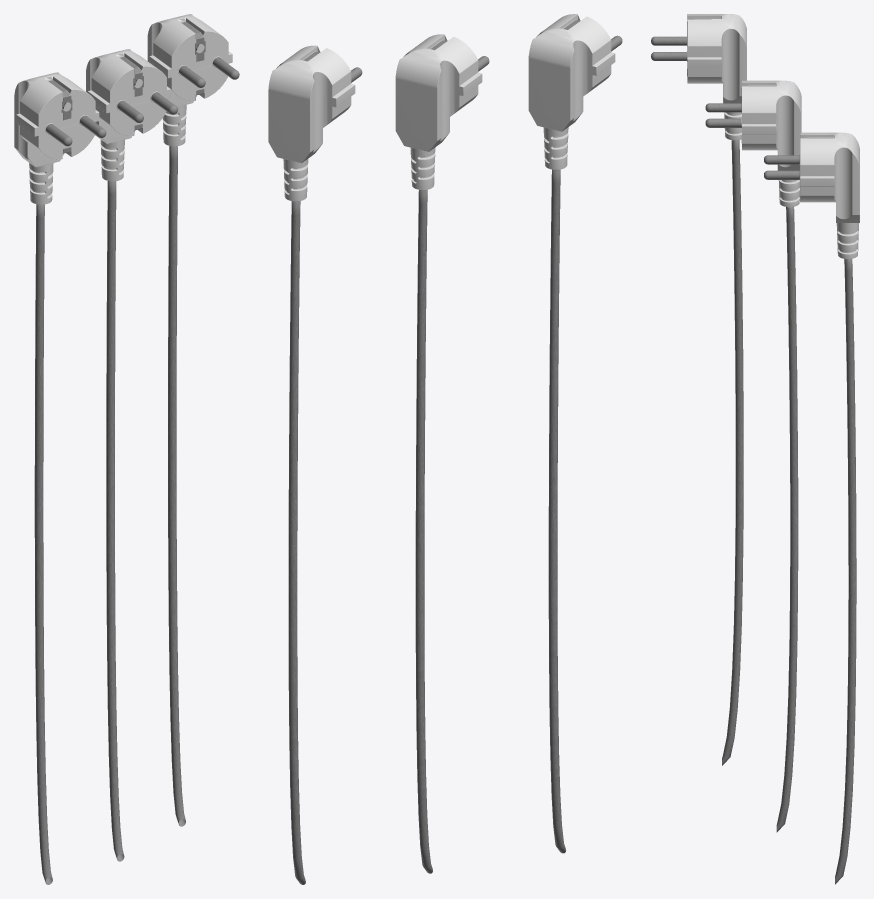
Rendered from Kabels.fbx.
3 renders of one model, left to right at view 1: azimuth 30°, elevation 25°; view 2: azimuth 150°, elevation 25°; view 3: azimuth 270°, elevation 25°, orthographic. The views are drawn at different scales.
Visible parts, largest first — view 1: 220 volt safety plug type CEE 7/7.002, 220 volt safety plug type CEE 7/7, 220 volt safety plug type CEE 7/7.001, BézierCurve, BézierCurve.002, BézierCurve.001; view 2: 220 volt safety plug type CEE 7/7.002, 220 volt safety plug type CEE 7/7, 220 volt safety plug type CEE 7/7.001, BézierCurve.001, BézierCurve, BézierCurve.002; view 3: 220 volt safety plug type CEE 7/7.001, 220 volt safety plug type CEE 7/7, 220 volt safety plug type CEE 7/7.002, BézierCurve.002, BézierCurve.001, BézierCurve.
Boxes of the visible parts, x1,y1,x2,y2 form: 220 volt safety plug type CEE 7/7.002: (14,72,106,204); 220 volt safety plug type CEE 7/7: (86,49,177,181); 220 volt safety plug type CEE 7/7.001: (147,14,239,146); BézierCurve: (106,181,124,861); BézierCurve.002: (34,204,52,884); BézierCurve.001: (168,146,185,826); 220 volt safety plug type CEE 7/7.002: (528,14,622,169); 220 volt safety plug type CEE 7/7: (395,34,489,189); 220 volt safety plug type CEE 7/7.001: (268,45,362,201); BézierCurve.001: (288,201,305,884); BézierCurve: (415,189,432,873); BézierCurve.002: (548,169,565,853); 220 volt safety plug type CEE 7/7.001: (764,132,859,259); 220 volt safety plug type CEE 7/7: (705,80,801,207); 220 volt safety plug type CEE 7/7.002: (651,14,746,140); BézierCurve.002: (722,140,743,765); BézierCurve.001: (835,259,856,884); BézierCurve: (776,207,798,832).
Size of the model in its own units: 1174 by 3646 by 886.
Materials: 2 (1 with a texture image).
